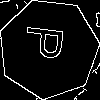P: (23, 24, 73, 62)
